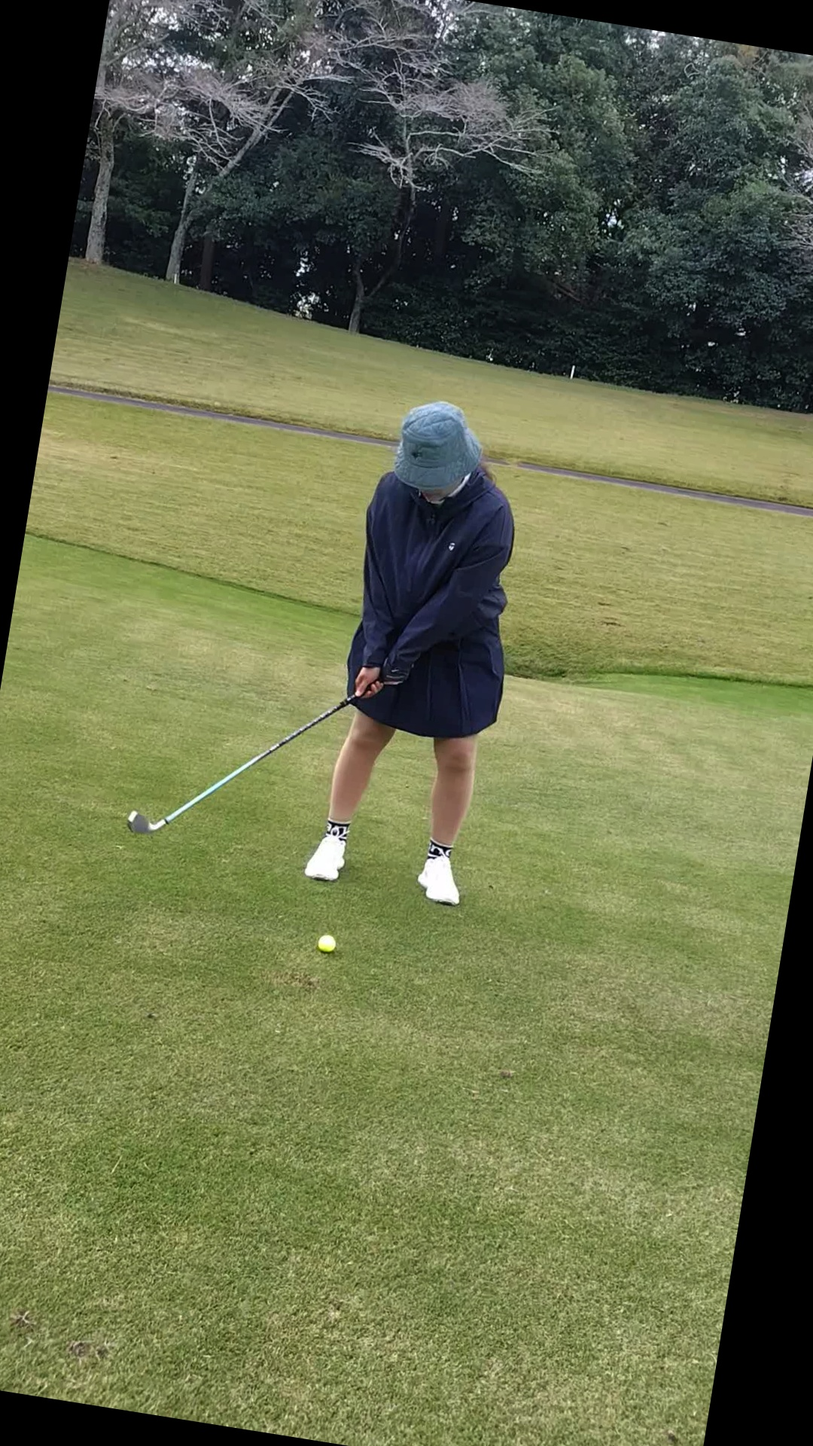clubhead: (78, 773, 207, 951)
